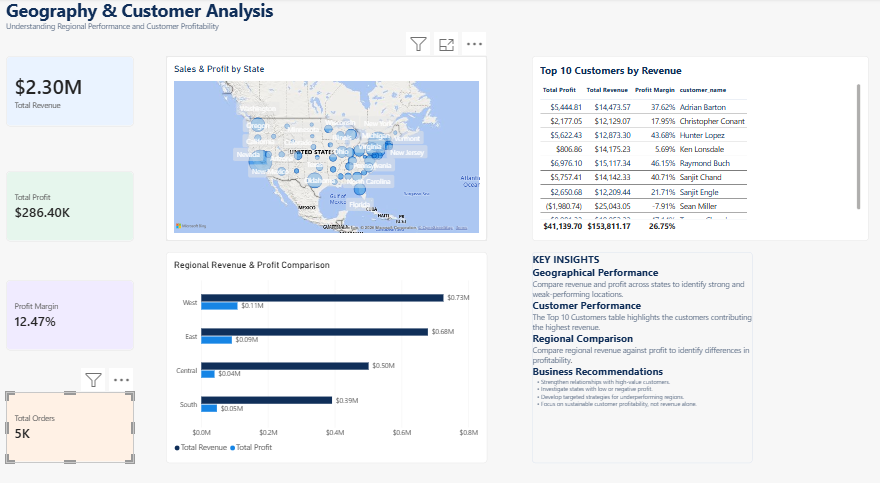

What the dashboard file says about the page in this screenshot:
{"tool":"powerbi","page":{"name":"Geography & Customer Analysis","canvas":[1920,1080],"ordinal":2},"visuals":[{"type":"textbox","box":[0,0,1647.9,93.2],"z":0},{"type":"cardVisual","fields":{"Data":["public sales_clean.Total Revenue"]},"box":[0,123.5,272,150],"z":3000},{"type":"cardVisual","fields":{"Data":["public sales_clean.Total Profit"]},"box":[0,361.2,272,150],"z":5000},{"type":"cardVisual","fields":{"Data":["public sales_clean.Profit Margin"]},"box":[0,598.8,272,150],"z":6000},{"type":"cardVisual","fields":{"Data":["public sales_clean.Total Orders"]},"box":[0,836.5,272,150],"z":7000},{"type":"map","title":"Sales & Profit by State","fields":{"Category":["public sales_clean.state"],"Size":["public sales_clean.Total Revenue"]},"box":[362.8,123.5,682.8,393.1],"z":7001},{"type":"tableEx","title":"Top 10 Customers by Revenue","fields":{"Values":["public sales_clean.Total Profit","public sales_clean.Total Revenue","public sales_clean.Profit Margin","public sales_clean.customer_name"]},"box":[1141.4,123.5,715.6,393.1],"z":7002},{"type":"clusteredBarChart","title":"Regional Revenue & Profit Comparison","fields":{"Category":["public sales_clean.region"],"Y":["public sales_clean.Total Revenue","public sales_clean.Total Profit"]},"box":[362.8,539.2,682.8,448.5],"z":7003},{"type":"textbox","box":[1141.4,539.2,468.7,448.5],"z":7004}]}

Visuals, with their boxes in screenshot pixels (x1, y1, x2, y2), scaled from the page's 1920x1080 canvas onto the 880x483 screenshot:
textbox: <bbox>0, 0, 755, 42</bbox>
cardVisual - public sales_clean.Total Revenue: <bbox>0, 55, 125, 122</bbox>
cardVisual - public sales_clean.Total Profit: <bbox>0, 162, 125, 229</bbox>
cardVisual - public sales_clean.Profit Margin: <bbox>0, 268, 125, 335</bbox>
cardVisual - public sales_clean.Total Orders: <bbox>0, 374, 125, 441</bbox>
"Sales & Profit by State" map: <bbox>166, 55, 479, 231</bbox>
"Top 10 Customers by Revenue" tableEx: <bbox>523, 55, 851, 231</bbox>
"Regional Revenue & Profit Comparison" clusteredBarChart: <bbox>166, 241, 479, 442</bbox>
textbox: <bbox>523, 241, 738, 442</bbox>
